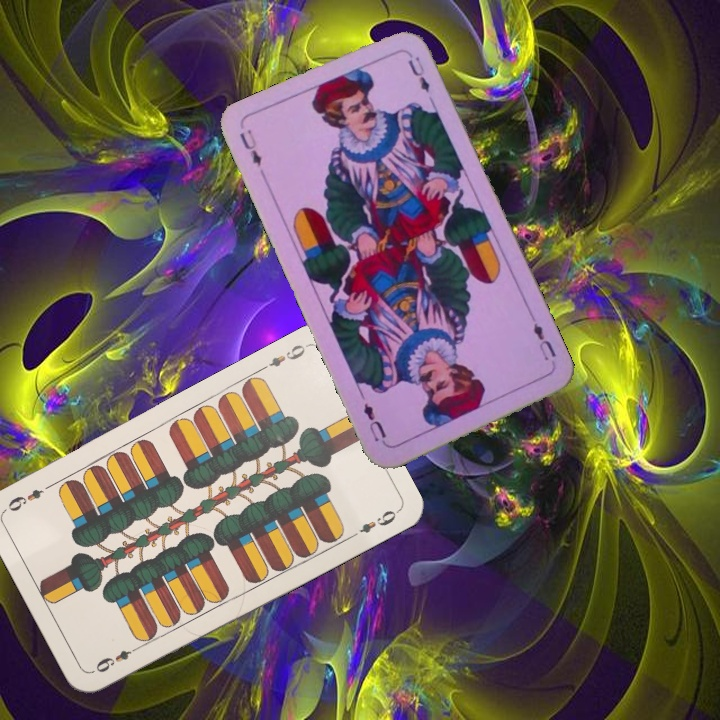E9: (89, 641, 144, 676), (256, 340, 312, 374)
EU: (529, 318, 559, 364), (235, 125, 265, 169)
